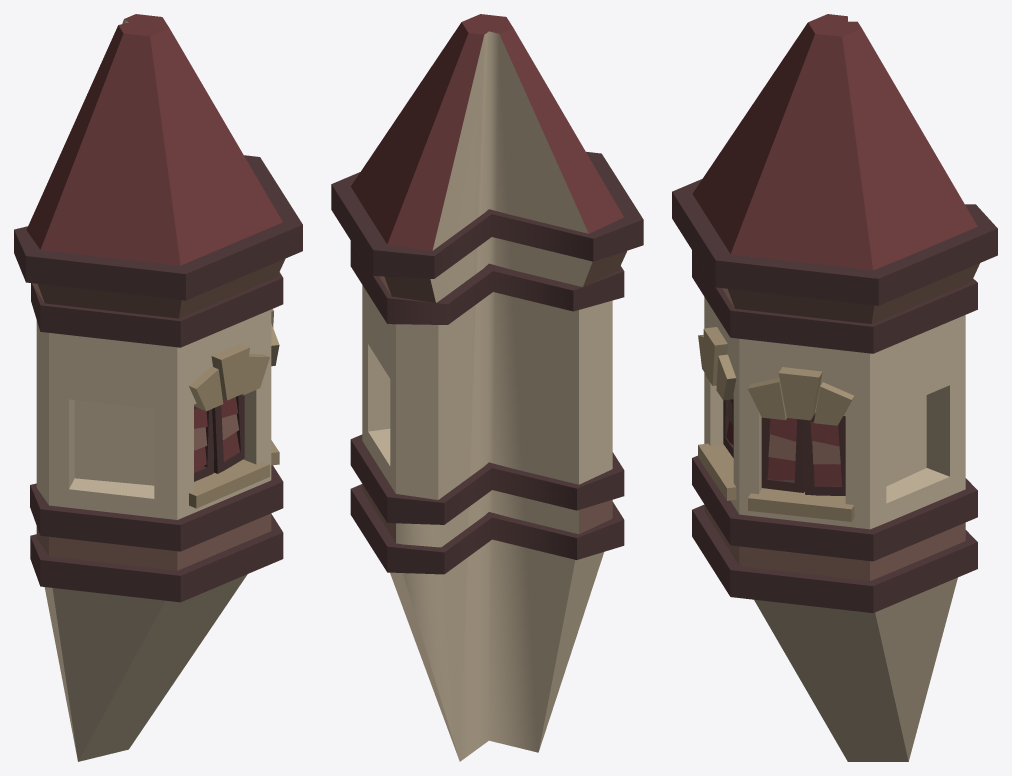
Rendered from LightSandStoneBuildingSmallWatchTower1.fbx.
The picture shows the model from 3 angles, left to right: view 1: azimuth 30°, elevation 25°; view 2: azimuth 150°, elevation 25°; view 3: azimuth 270°, elevation 25°; orthographic projection. The views are drawn at different scales.
Visible parts, largest first — view 1: LightSandStoneBuildingSmallWatchTower1; view 2: LightSandStoneBuildingSmallWatchTower1; view 3: LightSandStoneBuildingSmallWatchTower1.
Part boxes in pixels (x1,y1,x2,y2): LightSandStoneBuildingSmallWatchTower1: (14,14,302,761); LightSandStoneBuildingSmallWatchTower1: (331,14,643,761); LightSandStoneBuildingSmallWatchTower1: (672,14,997,761).
Size of the model in its own units: 870 by 2182 by 870.
